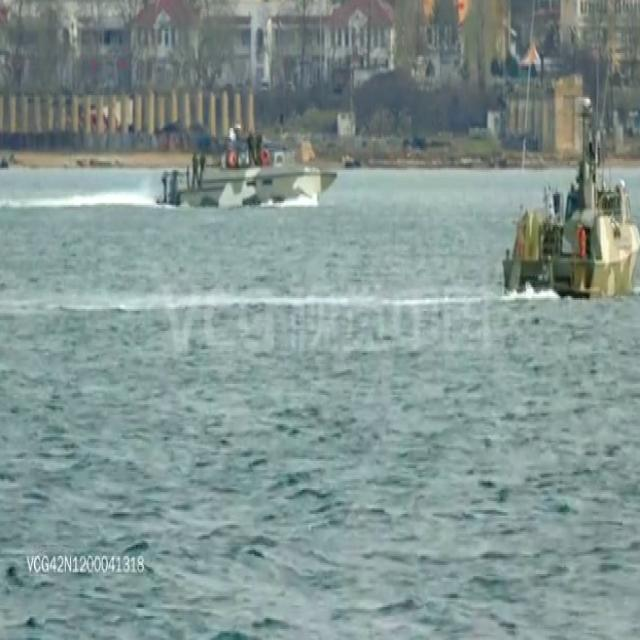houseboat: (500, 106, 640, 300), (162, 126, 336, 209)
